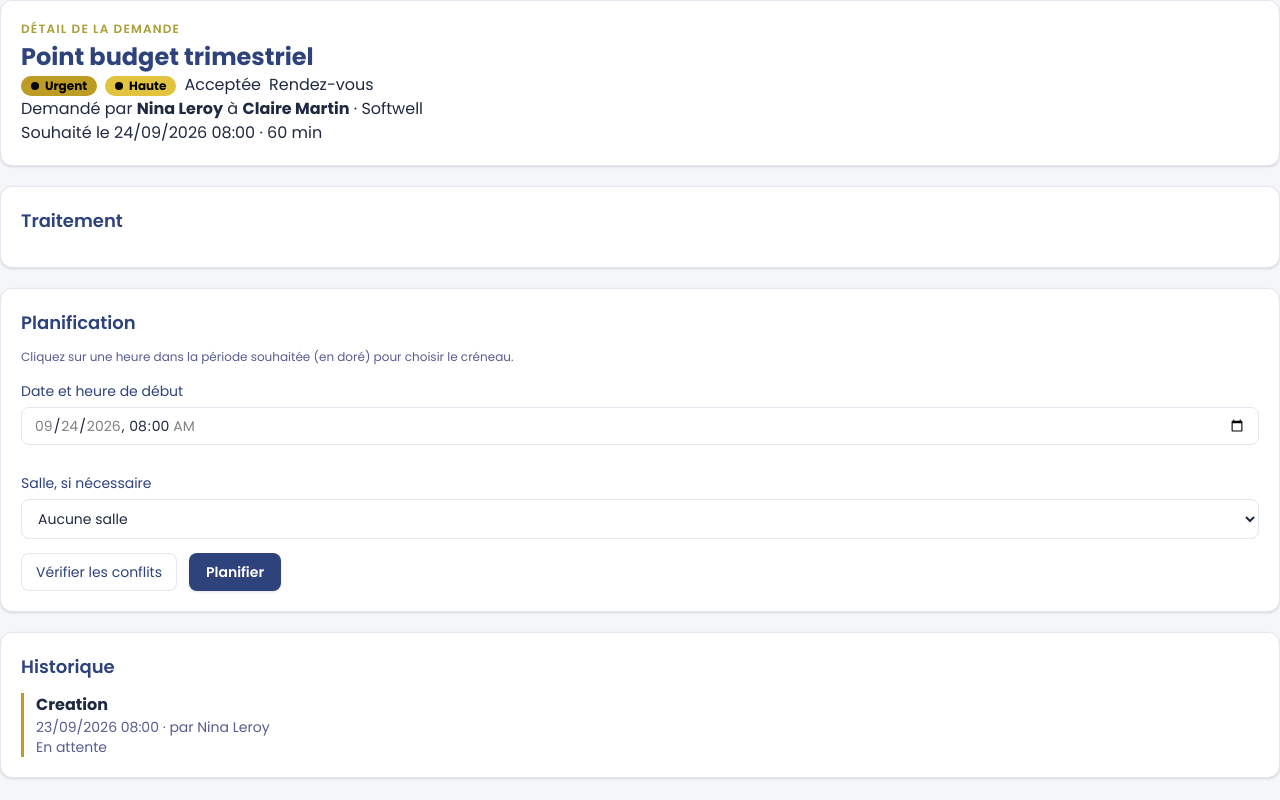
it: DemandeDetailComponent › devrait refuser un début hors de la période souhaitée sans appeler l API
Replace the text in the field labelled "Date et heure de début" with "2026-10-01T10:00" at (640, 426), box 21,407 -> 1259,445
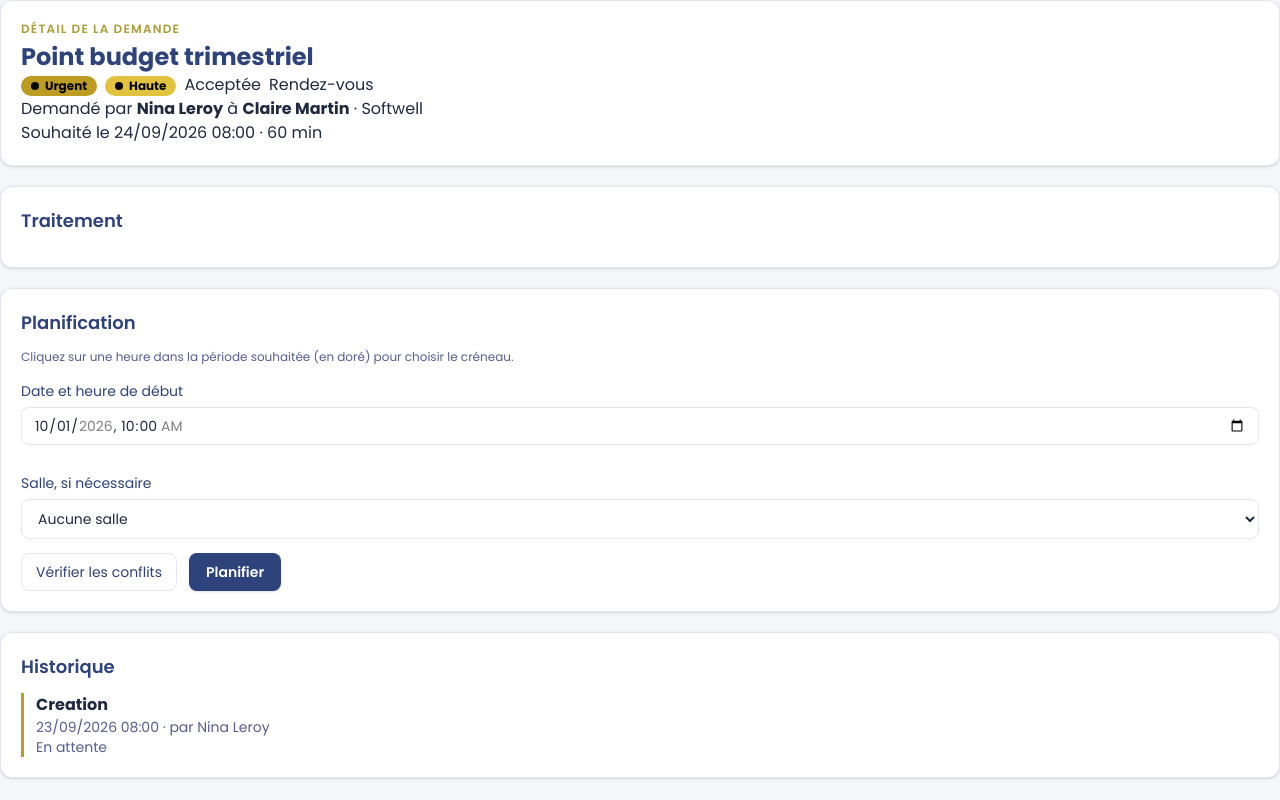
Click the button "Vérifier les conflits" at (99, 572), box 21,553 -> 177,591
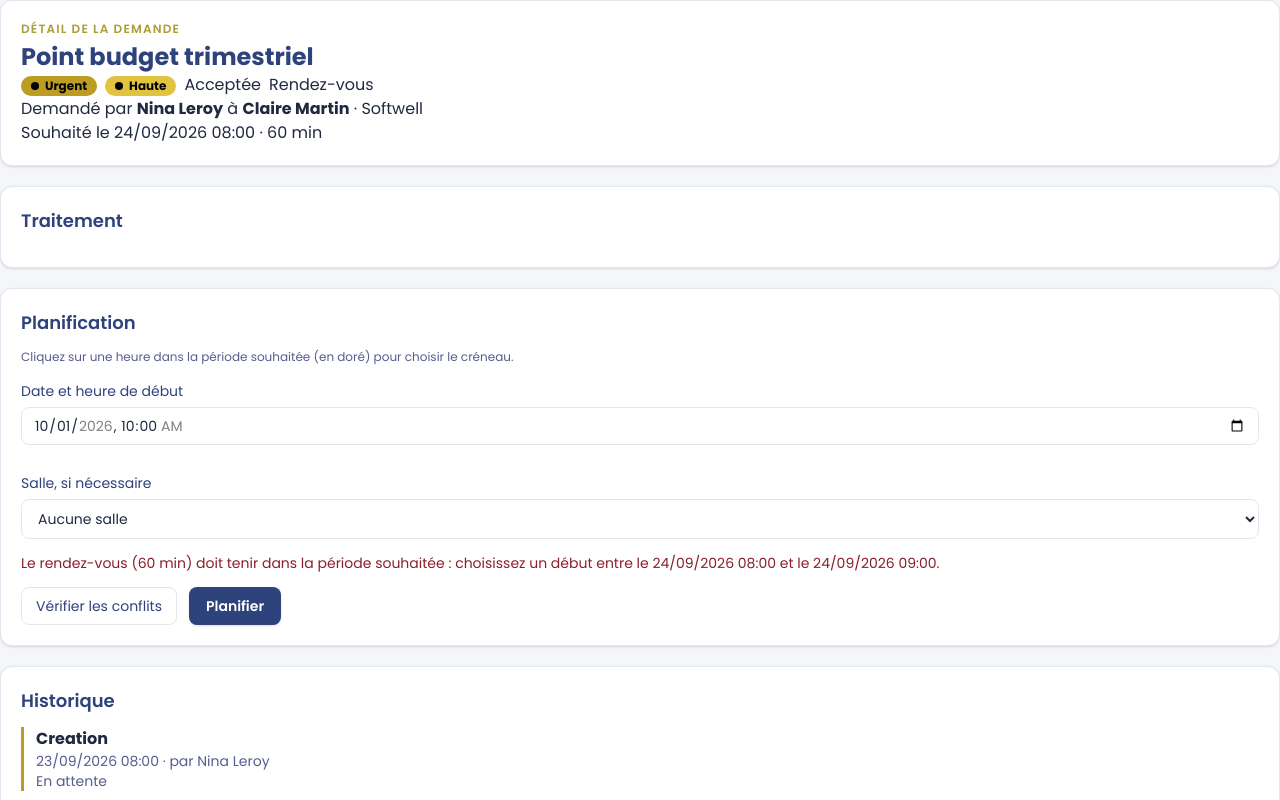
Now the text "doit tenir dans la période souhaitée" is shown, box 21,553 -> 940,573
